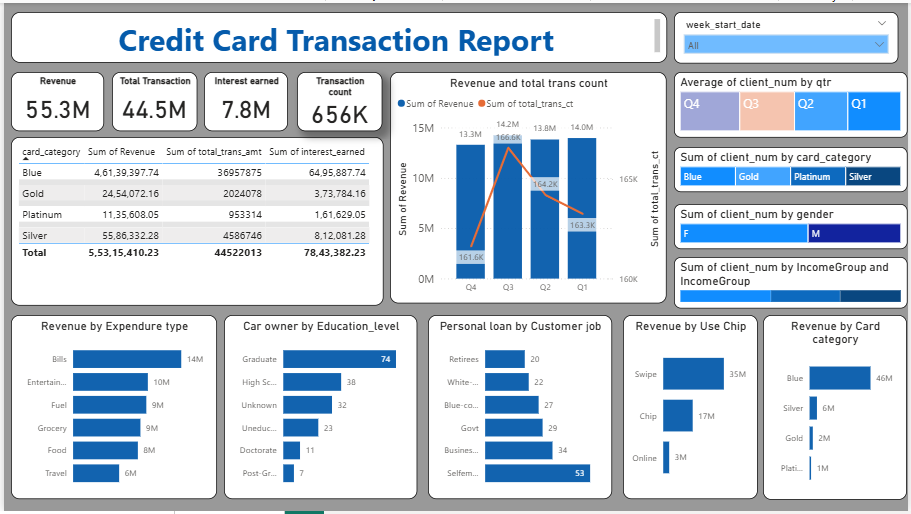

This screenshot's page, from the dashboard's own definition file:
{"tool":"powerbi","page":{"name":"Credit card transaction report","canvas":[1280,720],"ordinal":0},"visuals":[{"type":"textbox","box":[9.9,12.3,930,71.5],"z":0},{"type":"lineStackedColumnComboChart","title":" Revenue and total trans count","fields":{"Category":["public cc_detail.qtr"],"Y":["Sum(public cc_detail.Revenue)"],"Y2":["Sum(public cc_detail.total_trans_ct)"]},"box":[547.7,97.7,392.1,328.2],"z":1000},{"type":"barChart","title":"Revenue by Expendure type","fields":{"Category":["public cc_detail.exp_type"],"Y":["Sum(public cc_detail.Revenue)"]},"box":[9.7,441.6,292,260.6],"z":2000},{"type":"barChart","title":"Personal loan by Customer job","fields":{"Category":["public cust_detail.customer_job"],"Y":["CountNonNull(public cust_detail.personal_loan)"]},"box":[600.8,441.6,260.6,260.6],"z":3000},{"type":"barChart","title":"Car owner by Education_level","fields":{"Category":["public cust_detail.education_level"],"Y":["CountNonNull(public cust_detail.car_owner)"]},"box":[312.5,441.6,273.9,260.6],"z":4000},{"type":"barChart","title":"Revenue by Card category","fields":{"Category":["public cc_detail.card_category"],"Y":["Sum(public cc_detail.Revenue)"]},"box":[1076.1,441.6,203.9,261.8],"z":5000},{"type":"barChart","title":"Revenue by Use Chip","fields":{"Category":["public cc_detail.use_chip"],"Y":["Sum(public cc_detail.Revenue)"]},"box":[877.1,441.6,190.6,260.6],"z":6000},{"type":"tableEx","fields":{"Values":["public cc_detail.card_category","Sum(public cc_detail.Revenue)","Sum(public cc_detail.total_trans_amt)","Sum(public cc_detail.interest_earned)"]},"box":[9.7,190.6,528.4,238.9],"z":7000},{"type":"card","title":"Revenue","fields":{"Values":["Sum(public cc_detail.Revenue)"]},"box":[9.7,97.7,131.5,84.5],"z":8000},{"type":"card","title":"Total Transaction","fields":{"Values":["Sum(public cc_detail.total_trans_amt)"]},"box":[153.2,97.7,120.6,84.5],"z":9000},{"type":"card","title":"Interest earned","fields":{"Values":["Sum(public cc_detail.interest_earned)"]},"box":[283.5,97.7,119.4,84.5],"z":10000},{"type":"card","title":"Transaction count","fields":{"Values":["Sum(public cc_detail.total_trans_ct)"]},"box":[415,97.7,120.6,84.5],"z":11000},{"type":"slicer","fields":{"Values":["public cc_detail.week_start_date"]},"box":[949.7,12.3,318.2,72.8],"z":12000},{"type":"treemap","fields":{"Group":["public cc_detail.qtr"],"Values":["Avg(public cc_detail.client_num)"]},"box":[949.7,97.4,330.5,92.5],"z":13000},{"type":"treemap","fields":{"Group":["public cust_detail.gender"],"Values":["Sum(public cust_detail.client_num)"]},"box":[949.7,284.9,330.5,64.1],"z":14000},{"type":"treemap","fields":{"Group":["public cc_detail.card_category"],"Values":["Sum(public cust_detail.client_num)"]},"box":[949.7,203.5,330.5,64.1],"z":15000},{"type":"treemap","fields":{"Group":["public cust_detail.IncomeGroup"],"Values":["Sum(public cust_detail.client_num)"],"Details":["public cust_detail.IncomeGroup"]},"box":[949.7,360.1,330.5,72.8],"z":16000}]}

Visuals, with their boxes in screenshot pixels (x1, y1, x2, y2), scaled from the page's 1280x720 canvas onto the 911x514 screenshot:
textbox: [7, 9, 669, 60]
" Revenue and total trans count" lineStackedColumnComboChart: [390, 70, 669, 304]
"Revenue by Expendure type" barChart: [7, 315, 215, 501]
"Personal loan by Customer job" barChart: [428, 315, 613, 501]
"Car owner by Education_level" barChart: [222, 315, 417, 501]
"Revenue by Card category" barChart: [766, 315, 910, 502]
"Revenue by Use Chip" barChart: [624, 315, 760, 501]
tableEx - public cc_detail.card_category x Sum(public cc_detail.Revenue): [7, 136, 383, 307]
"Revenue" card: [7, 70, 100, 130]
"Total Transaction" card: [109, 70, 195, 130]
"Interest earned" card: [202, 70, 287, 130]
"Transaction count" card: [295, 70, 381, 130]
slicer - public cc_detail.week_start_date: [676, 9, 902, 61]
treemap - public cc_detail.qtr x Avg(public cc_detail.client_num): [676, 70, 910, 136]
treemap - public cust_detail.gender x Sum(public cust_detail.client_num): [676, 203, 910, 249]
treemap - public cc_detail.card_category x Sum(public cust_detail.client_num): [676, 145, 910, 191]
treemap - public cust_detail.IncomeGroup x Sum(public cust_detail.client_num): [676, 257, 910, 309]
